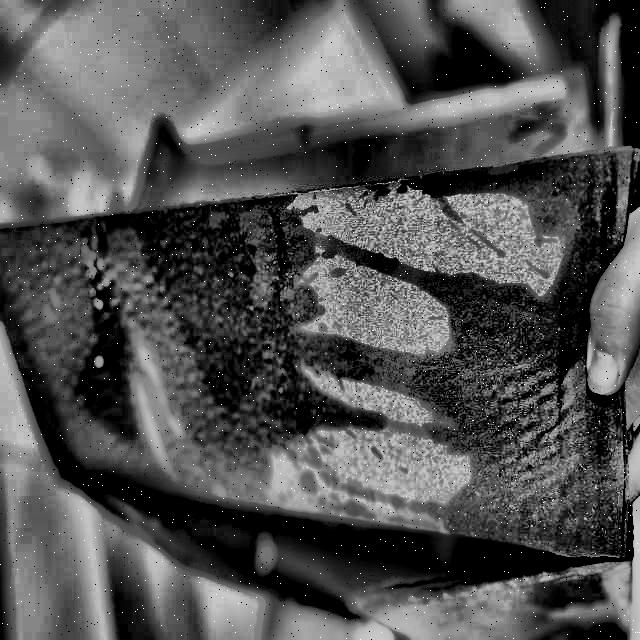box: (0, 69, 620, 552)
wet: (0, 174, 627, 509)
